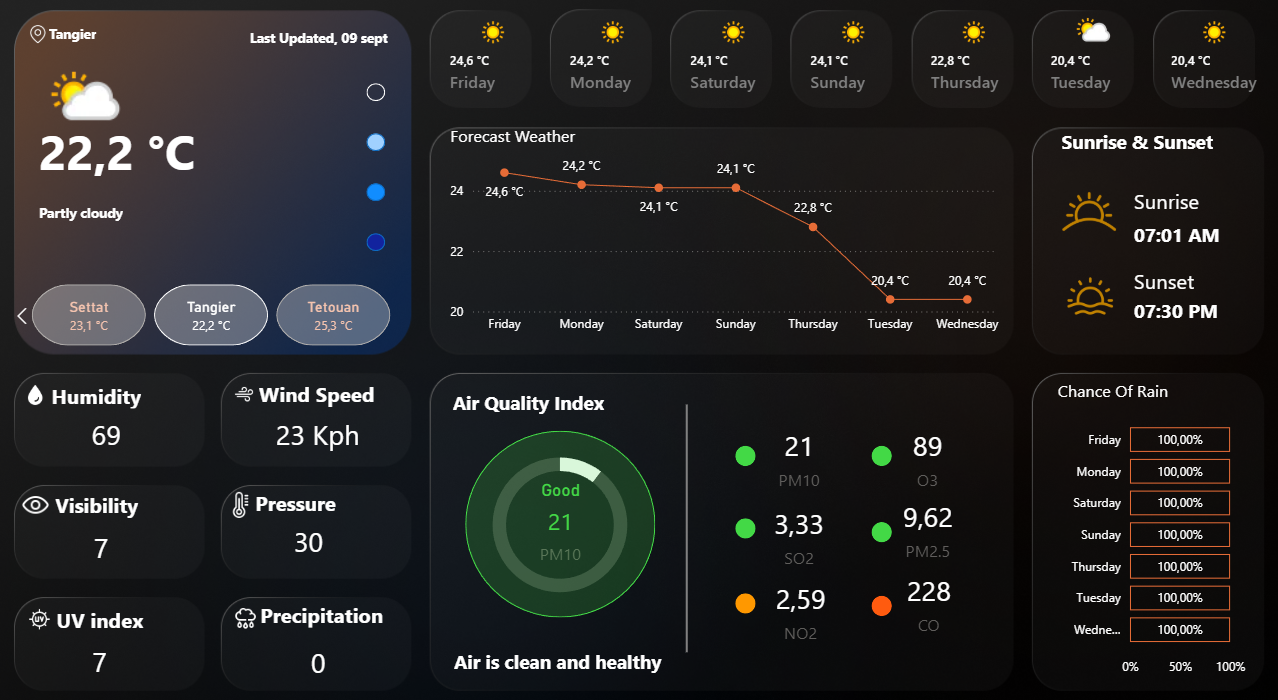

The dashboard page shown, as its layout file describes it:
{"tool":"powerbi","page":{"name":"Page 1","canvas":[1280,720],"ordinal":0},"visuals":[{"type":"advancedSlicerVisual","fields":{"Values":["Locations.location.name"]},"box":[17.7,287.7,402.3,70.8],"z":0},{"type":"shape","box":[49.2,110,198.5,100],"z":1000},{"type":"shape","box":[49.2,207.7,142.3,27.7],"z":2000},{"type":"shape","box":[59.2,32.3,113.8,26.9],"z":3000},{"type":"shape","box":[191.5,35.4,200,26.9],"z":4000},{"type":"image","box":[33.8,29.2,27.7,33.1],"z":5000},{"type":"cardVisual","fields":{"Data":["Min(Current.current.condition.icon)"]},"box":[23.1,54.6,129.2,96.9],"z":6000},{"type":"image","box":[21.1,487.8,50,40],"z":7000},{"type":"shape","box":[61.5,386.9,95.4,27.7],"z":8000},{"type":"image","box":[226.7,491.1,40,35.6],"z":9000},{"type":"image","box":[232.3,385.4,36.2,29.2],"z":10000},{"type":"image","box":[33.1,604.6,32.3,31.5],"z":11000},{"type":"image","box":[24.6,385.4,42.3,30.8],"z":12000},{"type":"image","box":[227.7,602.3,46.9,34.6],"z":13000},{"type":"shape","box":[264.6,385.4,115.4,28.5],"z":14000},{"type":"shape","box":[64.4,493.3,92.2,28.9],"z":15000},{"type":"shape","box":[261.1,491.1,86.7,28.9],"z":16000},{"type":"shape","box":[266.7,602.2,124.4,26.7],"z":17000},{"type":"shape","box":[66.2,606.9,100,26.9],"z":18000},{"type":"card","fields":{"Values":["Sum(Current.current.humidity)"]},"box":[81.5,420,68.5,40.8],"z":19000},{"type":"card","fields":{"Values":["Sum(Current.current.precip_in)"]},"box":[289.2,643.8,67.7,40.8],"z":20000},{"type":"card","fields":{"Values":["Sum(Current.current.uv)"]},"box":[75.4,643.1,67.7,41.5],"z":21000},{"type":"card","fields":{"Values":["_Measures.Wind_Speed"]},"box":[253.8,420,137.7,40.8],"z":22000},{"type":"card","fields":{"Values":["Sum(Current.current.pressure_in)"]},"box":[280,525.5,68.2,40.9],"z":23000},{"type":"card","fields":{"Values":["Sum(Current.current.vis_km)"]},"box":[76.4,531.8,68.2,40.9],"z":24000},{"type":"advancedSlicerVisual","fields":{"Values":["Forcast_Day.Day_Name"]},"box":[433.8,18.8,828.8,91.2],"z":25000},{"type":"lineChart","title":"Forecast Weather","fields":{"Y":["Sum(Forcast_Day.forecast.forecastday.day.avgtemp_c)"],"Category":["Forcast_Day.Day_Name"]},"box":[447.5,135,555,213.8],"z":26000},{"type":"shape","box":[1052.5,120,185,63.8],"z":27000},{"type":"shape","box":[1123.3,295.6,92.2,43.3],"z":28000},{"type":"shape","box":[1123.3,216.7,100,50],"z":29000},{"type":"shape","box":[1123.3,273.3,115.6,28.9],"z":30000},{"type":"shape","box":[1123.3,195.6,115.6,28.9],"z":31000},{"type":"image","box":[1036.7,180,86.7,80],"z":32000},{"type":"image","box":[1044.4,275.6,73.3,54.4],"z":33000},{"type":"hundredPercentStackedBarChart","title":"Chance Of Rain ","fields":{"Y":["Sum(Forcast_Day.forecast.forecastday.day.daily_chance_of_rain)","Sum(Forcast_Day.Left_vlaue_Rain)"],"Category":["Forcast_Day.Day_Name"]},"box":[1044.3,385.7,194.3,300],"z":34000},{"type":"shape","box":[455.7,375.7,184.3,64.3],"z":35000},{"type":"card","fields":{"Values":["Sum(Current.current.air_quality.pm2_5)"]},"box":[858.7,488,126,87.3],"z":36000},{"type":"card","fields":{"Values":["Sum(Current.current.air_quality.co)"]},"box":[852.7,560.7,140,87.3],"z":37000},{"type":"card","fields":{"Values":["Sum(Current.current.air_quality.pm10)"]},"box":[732.7,418.7,126,87.3],"z":38000},{"type":"card","fields":{"Values":["Sum(Current.current.air_quality.so2)"]},"box":[703.3,494,184.7,87.3],"z":39000},{"type":"card","fields":{"Values":["Sum(Current.current.air_quality.no2)"]},"box":[723.3,568.7,146,87.3],"z":40000},{"type":"card","fields":{"Values":["Sum(Current.current.air_quality.o3)"]},"box":[858.7,418,125.3,87.3],"z":41000},{"type":"shape","box":[732.7,450.7,20,20],"z":42000},{"type":"shape","box":[866,598,20,20],"z":43000},{"type":"shape","box":[732.7,522,20,20],"z":44000},{"type":"shape","box":[866,525.3,20,20],"z":45000},{"type":"shape","box":[732.7,594.7,20,20],"z":46000},{"type":"shape","box":[866,450.7,20,20],"z":47000},{"type":"shape","box":[578,410,214,243.3],"z":48000},{"type":"card","fields":{"Values":["Sum(Current.current.air_quality.pm10)"]},"box":[515,483.3,91.7,86.7],"z":49000},{"type":"donutChart","fields":{"Y":["Sum(Current.current.air_quality.pm10)","_Measures.Left_value_PM10"]},"box":[443.3,440.7,235.3,175.3],"z":50000},{"type":"shape","box":[467.5,435.8,186.7,183.3],"z":51000},{"type":"shape","box":[455.8,629.2,244.2,64.2],"z":52000},{"type":"shape","box":[370.8,143.3,18.3,17.5],"z":52001},{"type":"shape","box":[370.8,94.2,18.3,17.5],"z":52002},{"type":"shape","box":[370.8,192.5,18.3,17.5],"z":52003},{"type":"shape","box":[370.8,241.7,18.3,17.5],"z":52004}]}

Visuals, with their boxes in screenshot pixels (x1, y1, x2, y2), scaled from the page's 1280x720 canvas onto the 1278x700 screenshot:
advancedSlicerVisual - Locations.location.name: box=[18, 280, 419, 349]
shape: box=[49, 107, 247, 204]
shape: box=[49, 202, 191, 229]
shape: box=[59, 31, 173, 58]
shape: box=[191, 34, 391, 61]
image: box=[34, 28, 61, 61]
cardVisual - Min(Current.current.condition.icon): box=[23, 53, 152, 147]
image: box=[21, 474, 71, 513]
shape: box=[61, 376, 157, 403]
image: box=[226, 477, 266, 512]
image: box=[232, 375, 268, 403]
image: box=[33, 588, 65, 618]
image: box=[25, 375, 67, 405]
image: box=[227, 586, 274, 619]
shape: box=[264, 375, 379, 402]
shape: box=[64, 480, 156, 508]
shape: box=[261, 477, 347, 506]
shape: box=[266, 585, 390, 611]
shape: box=[66, 590, 166, 616]
card - Sum(Current.current.humidity): box=[81, 408, 150, 448]
card - Sum(Current.current.precip_in): box=[289, 626, 356, 666]
card - Sum(Current.current.uv): box=[75, 625, 143, 666]
card - _Measures.Wind_Speed: box=[253, 408, 391, 448]
card - Sum(Current.current.pressure_in): box=[280, 511, 348, 551]
card - Sum(Current.current.vis_km): box=[76, 517, 144, 557]
advancedSlicerVisual - Forcast_Day.Day_Name: box=[433, 18, 1261, 107]
"Forecast Weather" lineChart: box=[447, 131, 1001, 339]
shape: box=[1051, 117, 1236, 179]
shape: box=[1122, 287, 1214, 329]
shape: box=[1122, 211, 1221, 259]
shape: box=[1122, 266, 1237, 294]
shape: box=[1122, 190, 1237, 218]
image: box=[1035, 175, 1122, 253]
image: box=[1043, 268, 1116, 321]
"Chance Of Rain " hundredPercentStackedBarChart: box=[1043, 375, 1237, 667]
shape: box=[455, 365, 639, 428]
card - Sum(Current.current.air_quality.pm2_5): box=[857, 474, 983, 559]
card - Sum(Current.current.air_quality.co): box=[851, 545, 991, 630]
card - Sum(Current.current.air_quality.pm10): box=[732, 407, 857, 492]
card - Sum(Current.current.air_quality.so2): box=[702, 480, 887, 565]
card - Sum(Current.current.air_quality.no2): box=[722, 553, 868, 638]
card - Sum(Current.current.air_quality.o3): box=[857, 406, 982, 491]
shape: box=[732, 438, 752, 458]
shape: box=[865, 581, 885, 601]
shape: box=[732, 508, 752, 527]
shape: box=[865, 511, 885, 530]
shape: box=[732, 578, 752, 598]
shape: box=[865, 438, 885, 458]
shape: box=[577, 399, 791, 635]
card - Sum(Current.current.air_quality.pm10): box=[514, 470, 606, 554]
donutChart - Sum(Current.current.air_quality.pm10) x _Measures.Left_value_PM10: box=[443, 428, 678, 599]
shape: box=[467, 424, 653, 602]
shape: box=[455, 612, 699, 674]
shape: box=[370, 139, 388, 156]
shape: box=[370, 92, 388, 109]
shape: box=[370, 187, 388, 204]
shape: box=[370, 235, 388, 252]
